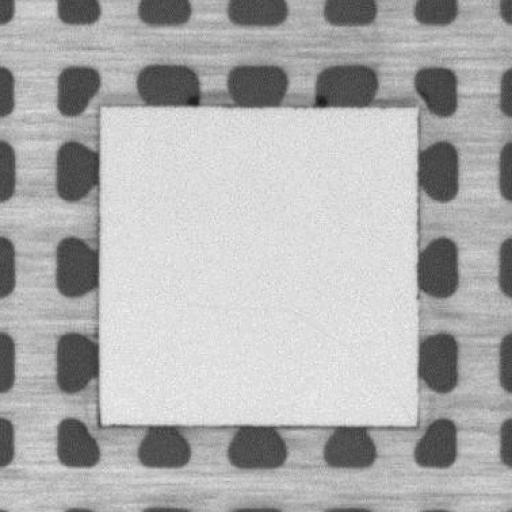DIE_CRACK: (181, 301, 370, 362)
